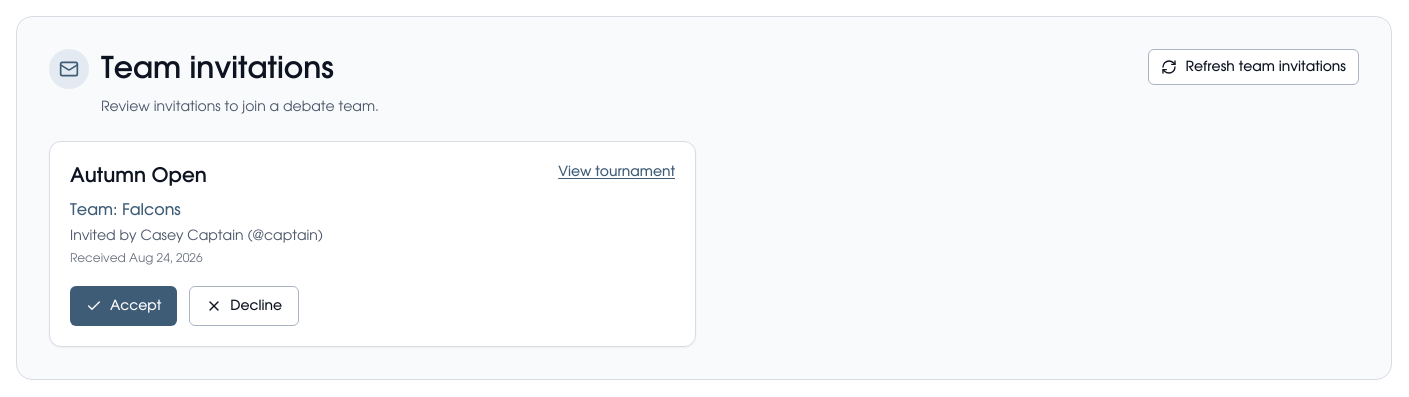
Test case: ParticipantInvitationInbox › marks a genuinely stale invitation as unavailable and refreshes
Click the button with aria-label "Accept invitation to Falcons".
click(124, 306)  # box [70,286,177,326]
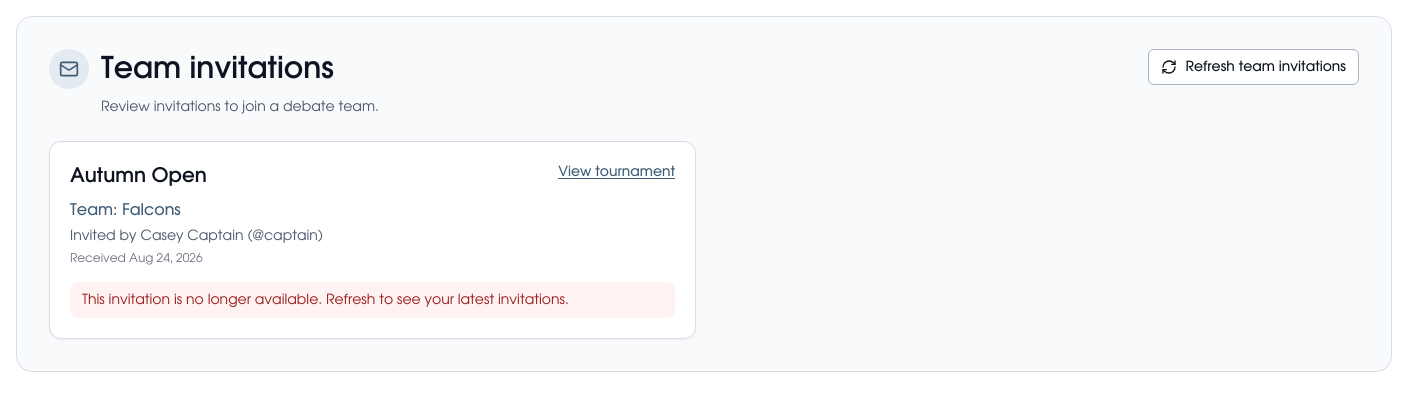
Expected: the text "This invitation is no longer available" is shown, [82,293,569,307]
